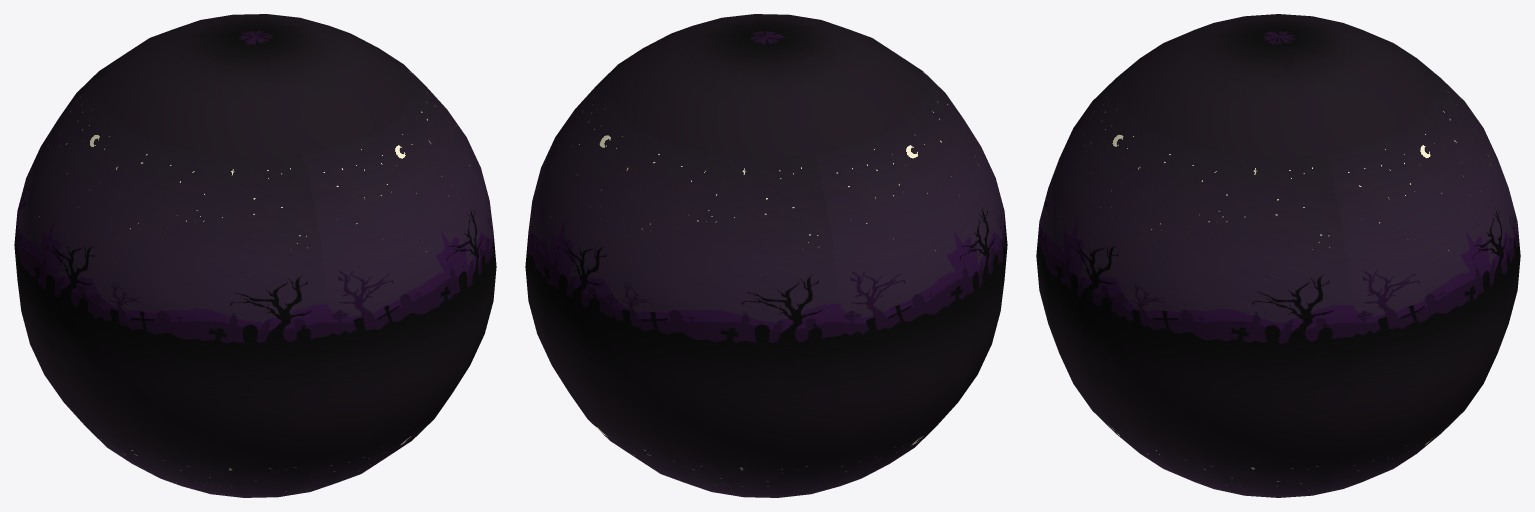
Rendered from OMG_RenderEnv-Scene25-10-20.fbx.
The picture shows the model from 3 angles, left to right: view 1: azimuth 30°, elevation 25°; view 2: azimuth 150°, elevation 25°; view 3: azimuth 270°, elevation 25°; orthographic projection.
Visible parts, largest first — view 1: Skybox; view 2: Skybox; view 3: Skybox.
Boxes of the visible parts, <box> form: Skybox: <box>14,14,496,497</box>; Skybox: <box>525,14,1007,497</box>; Skybox: <box>1036,14,1520,497</box>.
Size of the model in its own units: 90.97 by 90.97 by 90.97.
